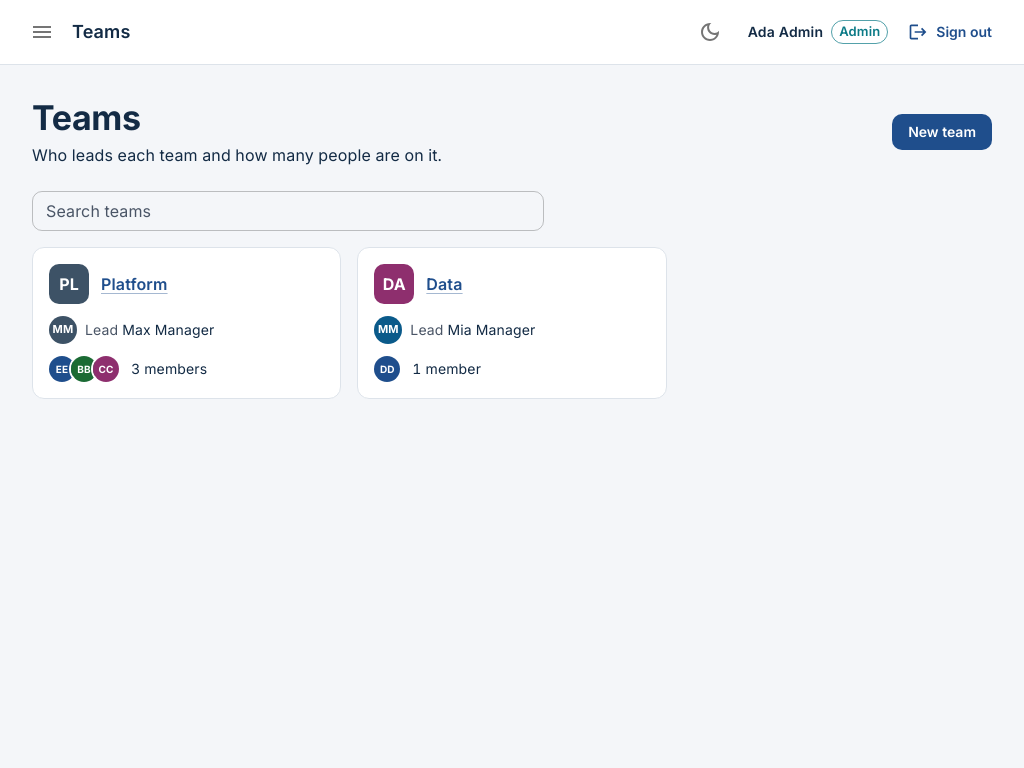
Test: AppShell › on a tablet the sidebar is a drawer behind "Menu", and the name moves out of the way on a phone
expect the heading "Teams" is shown: met, box [32,97,141,138]
Click the button named "Menu": (42, 32) [20,10,64,54]
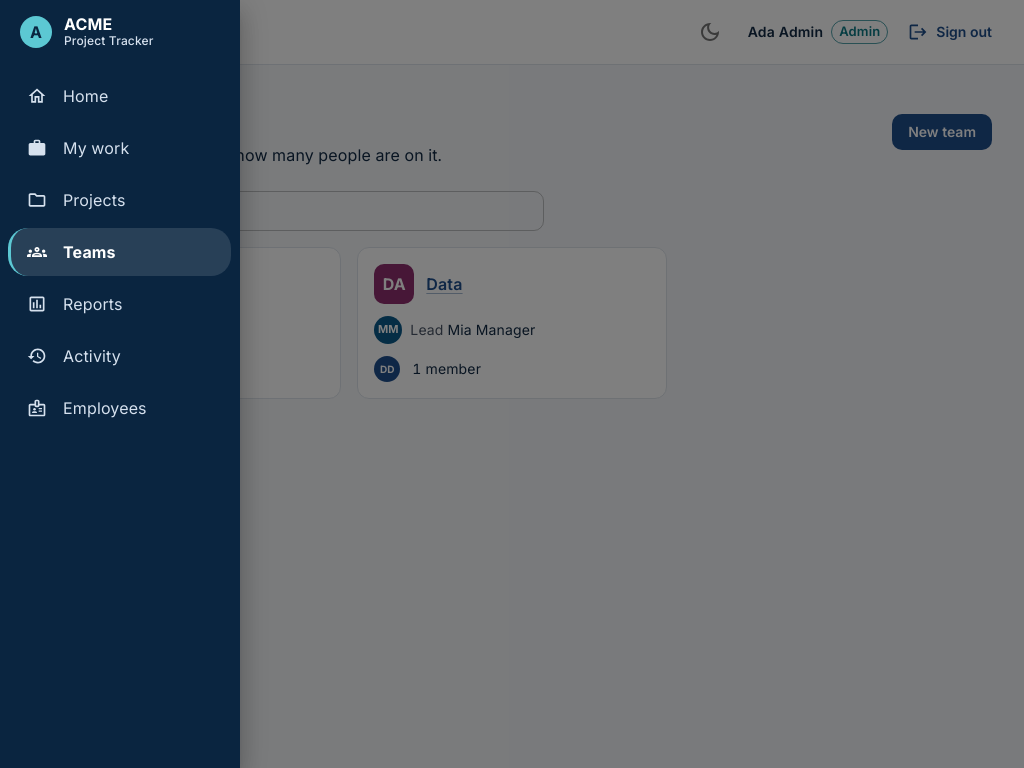
expect the link "Employees" is shown: met, box [27,398,147,418]
